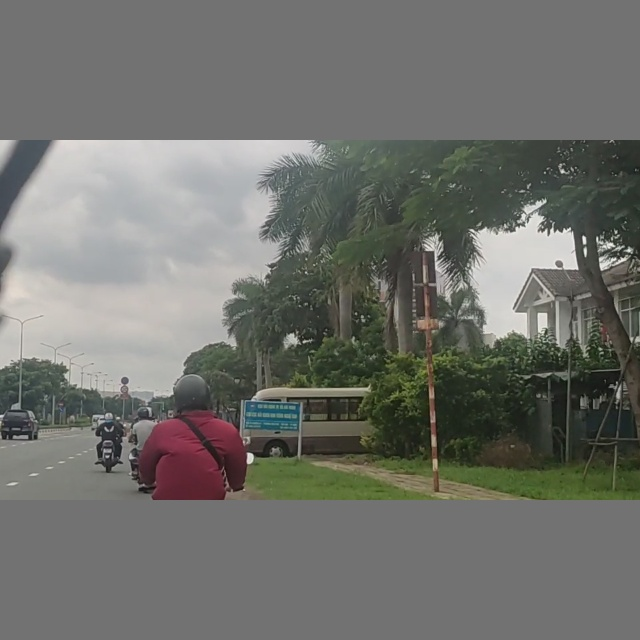P.102: (57, 401, 65, 407)
P.130: (121, 377, 129, 385)
R.302a: (57, 407, 64, 413)
